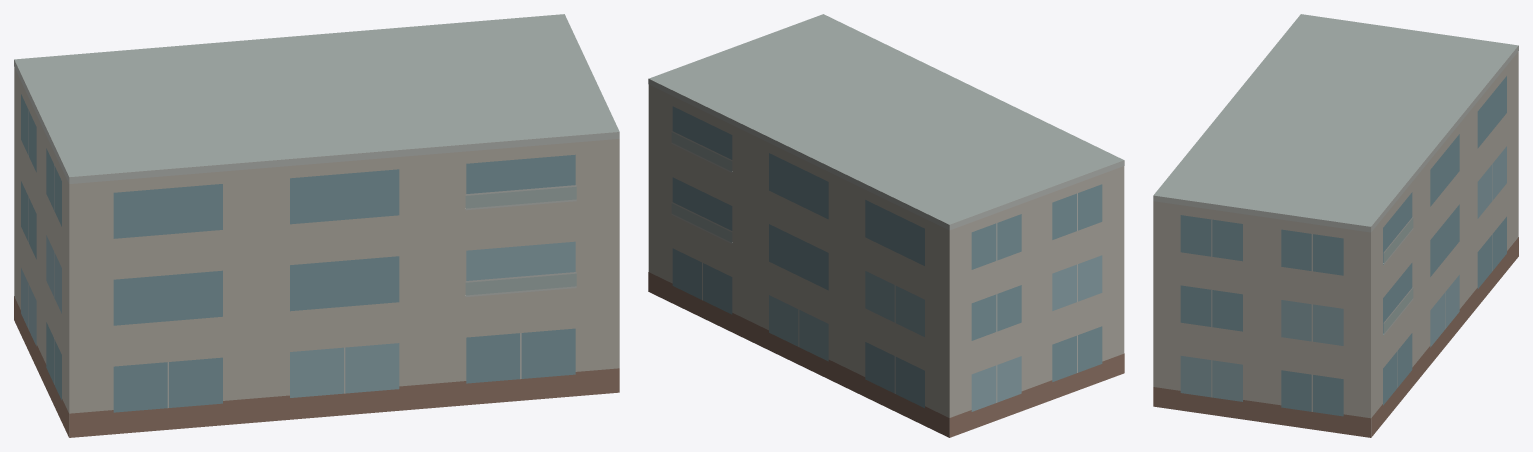
The model's file is survey-upis-33036422.glb.
The picture shows the model from 3 angles, left to right: view 1: azimuth 30°, elevation 25°; view 2: azimuth 150°, elevation 25°; view 3: azimuth 270°, elevation 25°; orthographic projection. The views are drawn at different scales.
Parts seen in each view (by area): view 1: survey-upis-33036422.tmp; view 2: survey-upis-33036422.tmp; view 3: survey-upis-33036422.tmp.
Boxes of the visible parts, <box> form: survey-upis-33036422.tmp: <box>14,14,619,437</box>; survey-upis-33036422.tmp: <box>648,14,1124,437</box>; survey-upis-33036422.tmp: <box>1153,14,1518,437</box>.
Size of the model in its own units: 19.8 by 9.15 by 14.37.
